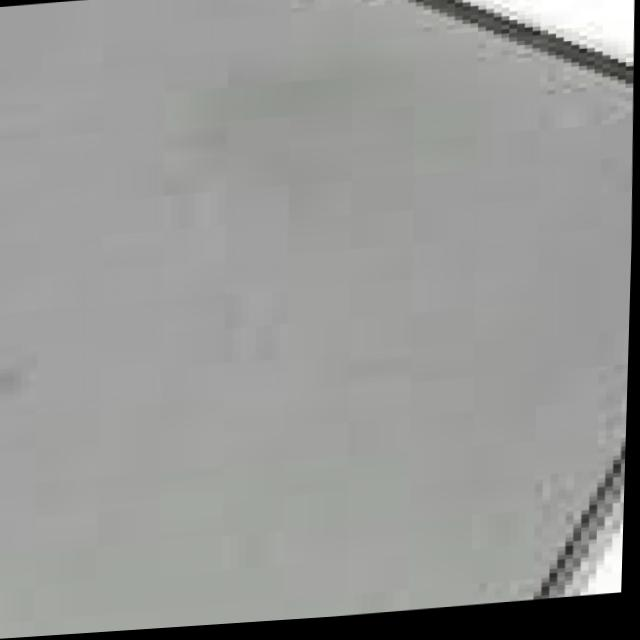metal-plates: (1, 1, 635, 640)
